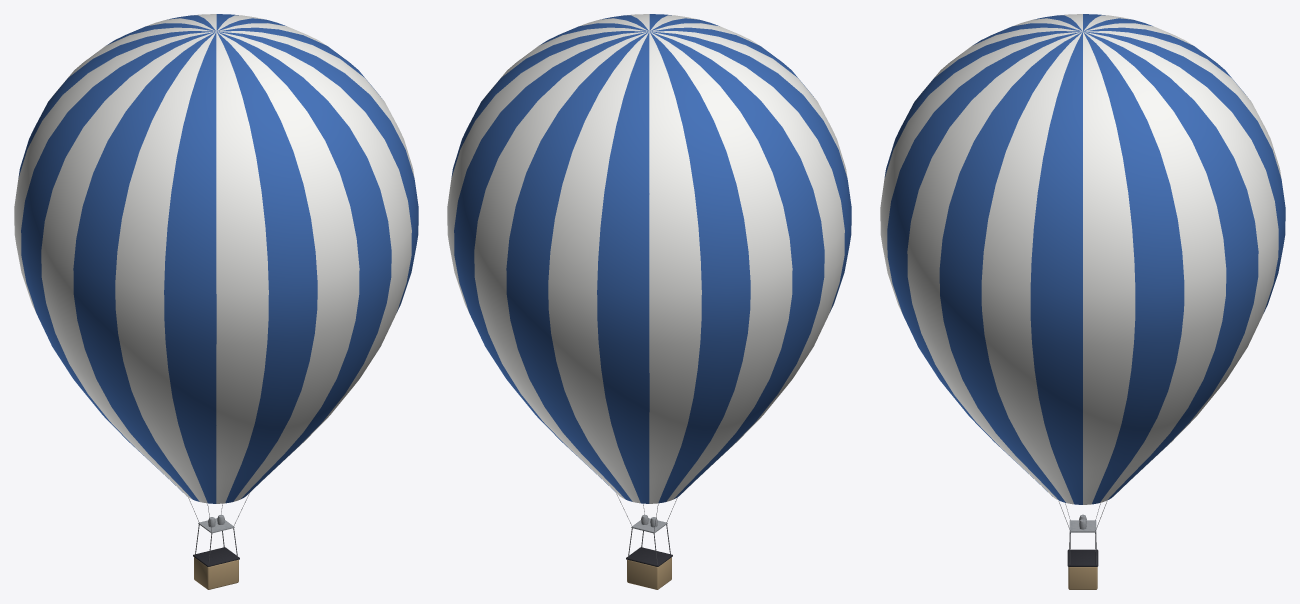
Rendered from balloon_stripes.gltf.
3 views of the same model, side by side, from view 1: azimuth 30°, elevation 25°; view 2: azimuth 150°, elevation 25°; view 3: azimuth 270°, elevation 25° (orthographic).
Parts seen in each view (by area): view 1: balloon_stripes; view 2: balloon_stripes; view 3: balloon_stripes.
Part boxes in pixels (left/top/right/bottom): balloon_stripes: left=14, top=14, right=418, bottom=589; balloon_stripes: left=447, top=14, right=851, bottom=589; balloon_stripes: left=880, top=14, right=1285, bottom=589.
Size of the model in its own units: 16.77 by 25.17 by 16.77.
7 materials, 3 textured.
